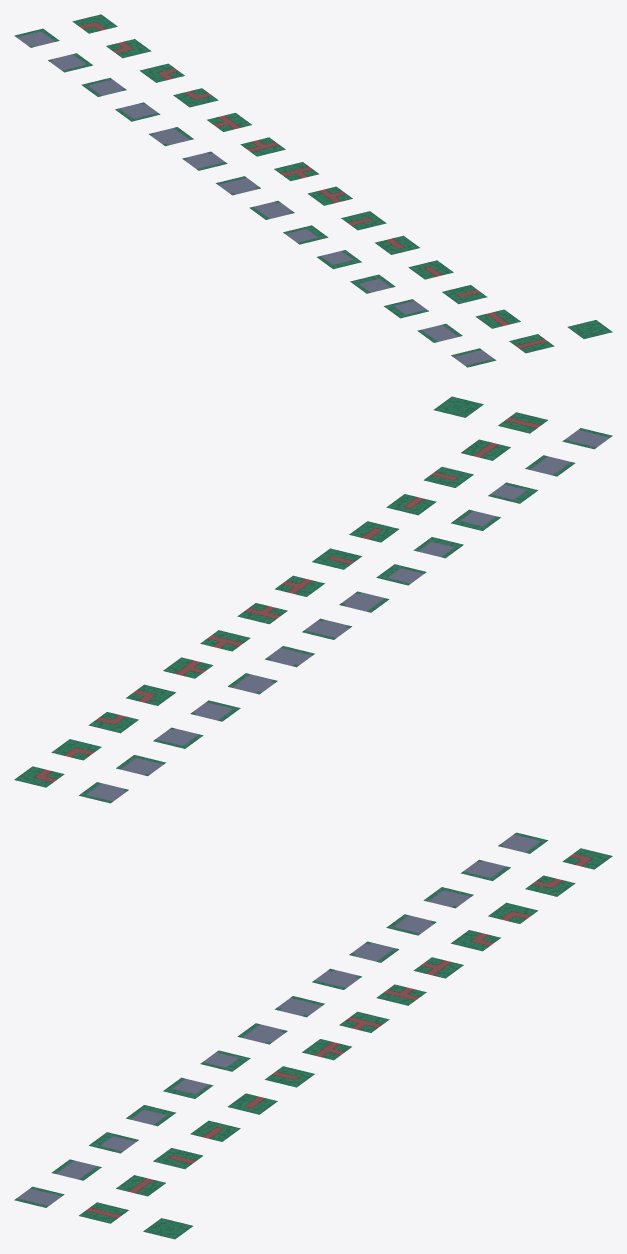
The model's file is blend_environment_tiles.glb.
3 renders of one model, top to bottom at view 1: azimuth 30°, elevation 25°; view 2: azimuth 150°, elevation 25°; view 3: azimuth 330°, elevation 25°, orthographic. The views are drawn at different scales.
Visible parts, largest first — view 1: road_straight_left_right, road_dead_end_down, road_dead_end_left, road_straight_up_down, road_dead_end_up, road_dead_end_right, road_intersection_right, path_intersection_down, path_curve_left, path_curve_right, path_curve_up, path_grass (+17 smaller); view 2: road_dead_end_up, path_intersection_right, path_intersection_up, road_straight_up_down, road_straight_left_right, road_intersection_down, road_curve_left, path_straight_up_down, patj_dead_end_left, path_curve_right, road_dead_end_down, path_grass (+17 smaller); view 3: road_dead_end_up, path_intersection_right, path_intersection_up, road_straight_up_down, road_straight_left_right, road_intersection_down, road_curve_left, path_straight_up_down, patj_dead_end_left, path_curve_right, road_dead_end_down, path_grass (+17 smaller).
Part boxes in pixels (bbox=[...]): road_straight_left_right: bbox=[417, 323, 462, 342]; road_dead_end_down: bbox=[384, 299, 428, 318]; road_dead_end_left: bbox=[350, 274, 395, 293]; road_straight_up_down: bbox=[451, 348, 496, 367]; road_dead_end_up: bbox=[283, 225, 328, 244]; road_dead_end_right: bbox=[317, 250, 361, 269]; road_intersection_right: bbox=[182, 151, 227, 170]; path_intersection_down: bbox=[307, 186, 352, 205]; path_curve_left: bbox=[140, 63, 184, 82]; path_curve_right: bbox=[106, 39, 151, 58]; path_curve_up: bbox=[72, 14, 117, 33]; path_grass: bbox=[567, 320, 612, 338]; road_dead_end_up: bbox=[376, 564, 426, 585]; path_intersection_right: bbox=[200, 630, 250, 651]; path_intersection_up: bbox=[163, 657, 213, 678]; road_straight_up_down: bbox=[562, 428, 612, 449]; road_straight_left_right: bbox=[525, 455, 575, 476]; road_intersection_down: bbox=[339, 591, 389, 612]; road_curve_left: bbox=[153, 727, 203, 748]; path_straight_up_down: bbox=[498, 412, 547, 433]; patj_dead_end_left: bbox=[386, 494, 436, 515]; path_curve_right: bbox=[51, 739, 101, 760]; road_dead_end_down: bbox=[488, 482, 537, 503]; path_grass: bbox=[434, 396, 483, 417]; road_dead_end_up: bbox=[200, 1050, 250, 1071]; path_intersection_right: bbox=[376, 984, 426, 1005]; path_intersection_up: bbox=[413, 957, 463, 978]; road_straight_up_down: bbox=[14, 1186, 64, 1207]; road_straight_left_right: bbox=[51, 1159, 101, 1180]; road_intersection_down: bbox=[237, 1023, 287, 1044]; road_curve_left: bbox=[423, 887, 473, 908]; path_straight_up_down: bbox=[79, 1202, 128, 1223]; patj_dead_end_left: bbox=[190, 1120, 240, 1141]; path_curve_right: bbox=[525, 875, 575, 896]; road_dead_end_down: bbox=[89, 1132, 138, 1153]; path_grass: bbox=[143, 1218, 192, 1239].
Size of the model in its own units: 5 by 0 by 27.
1 material, 1 textured.
